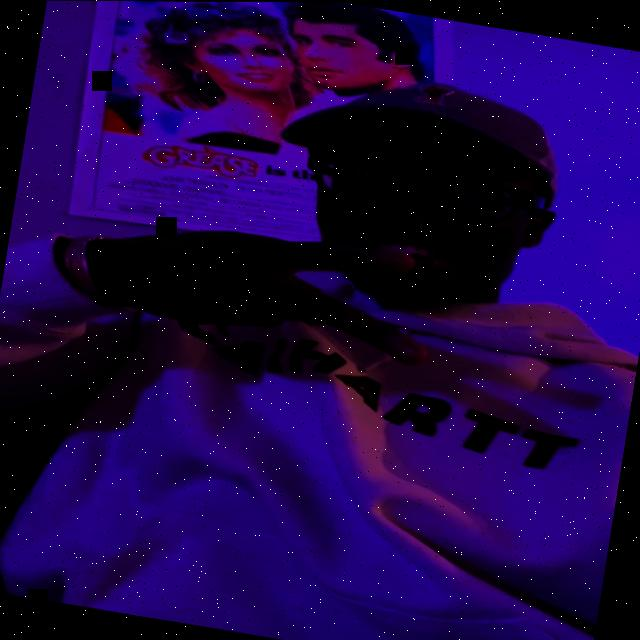Scissors: (100, 200, 448, 372)
